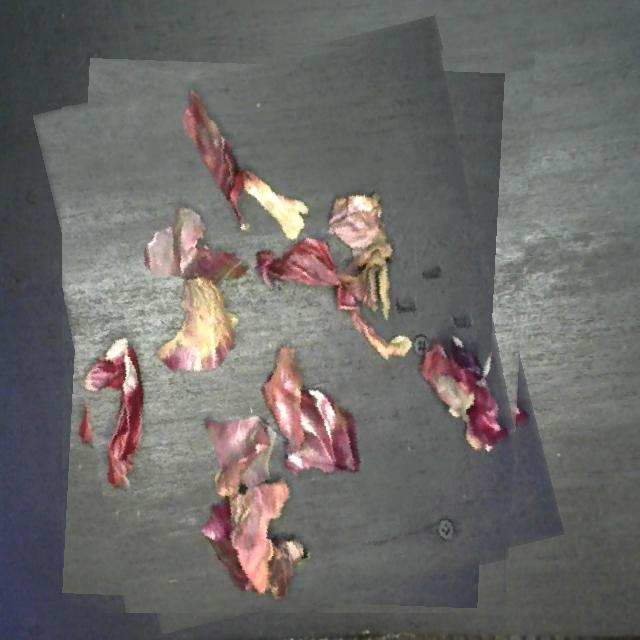biodegradable: (62, 36, 535, 613)
